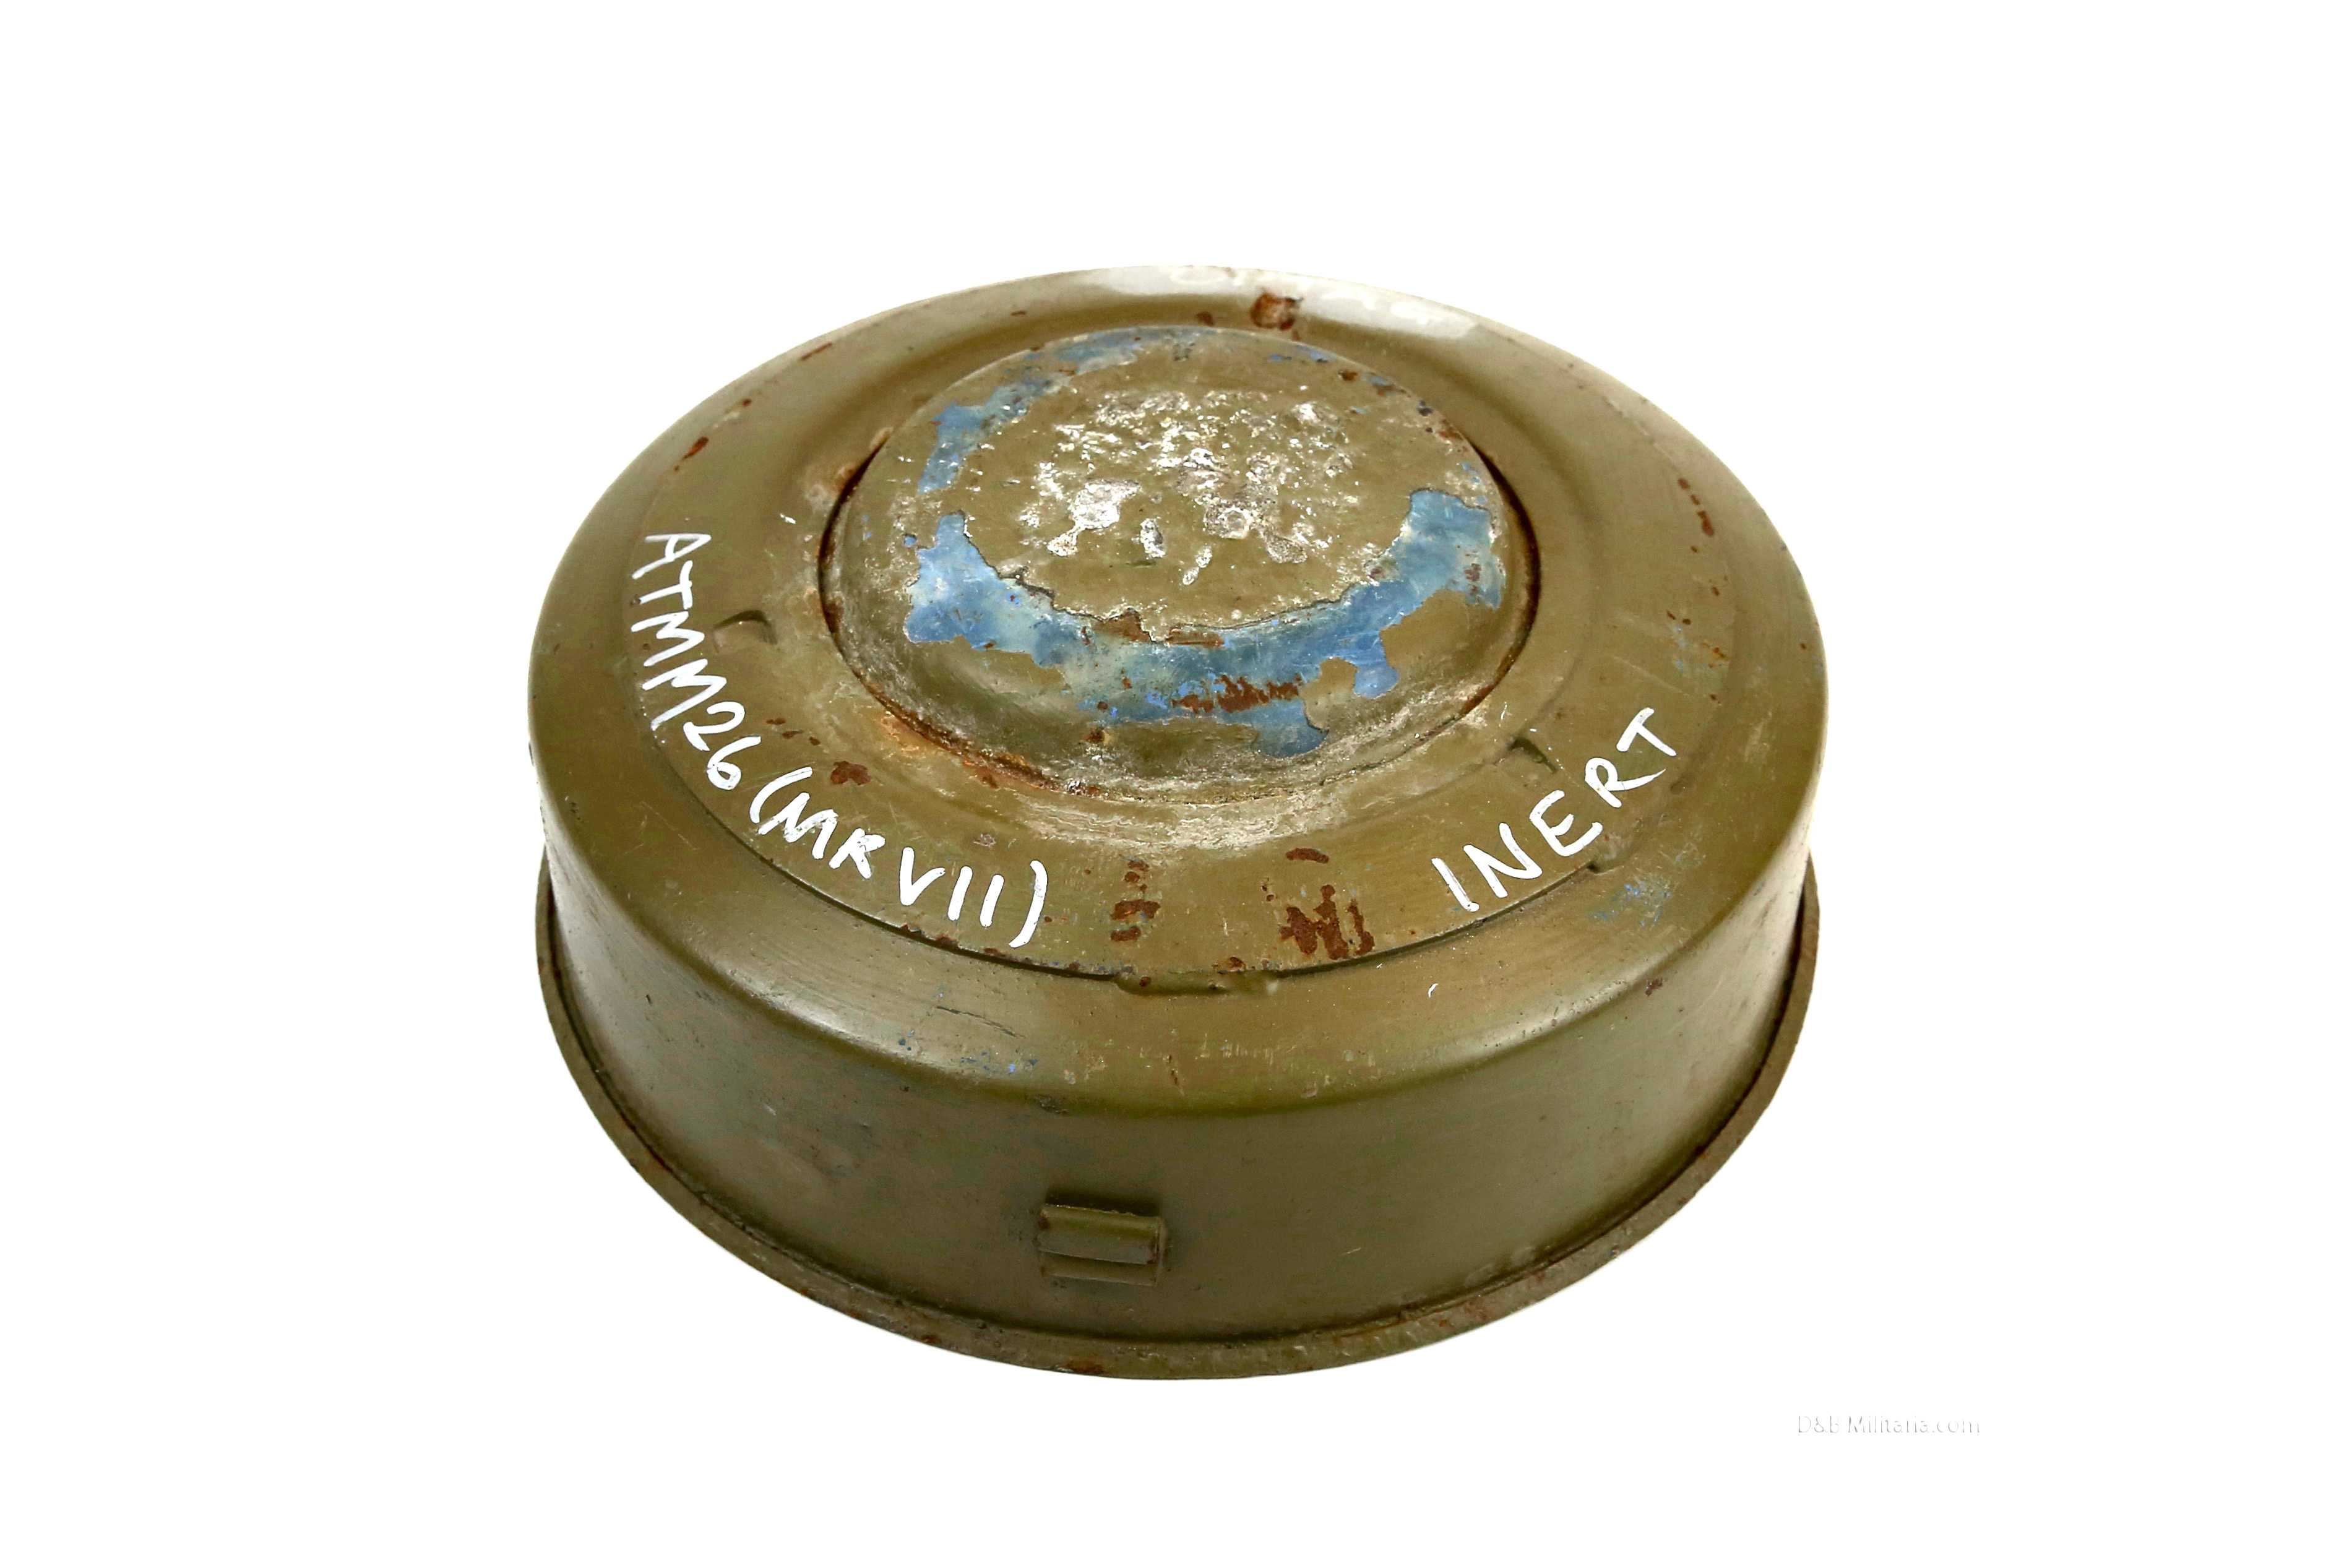car: (348, 128, 1962, 1554)
